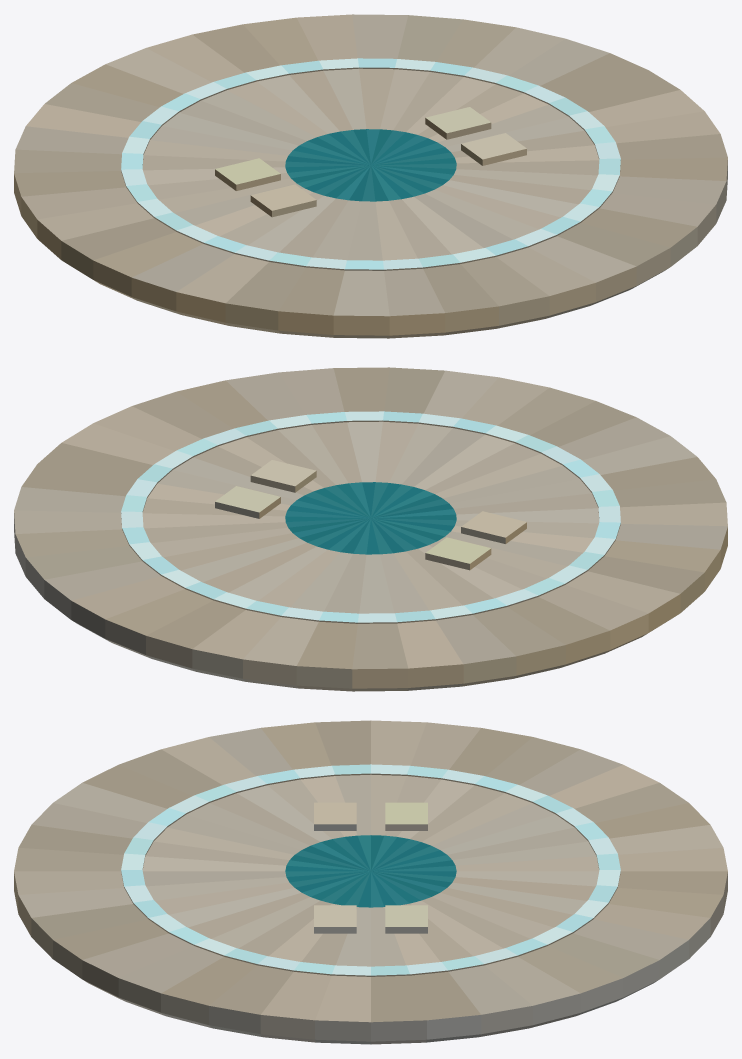
Rendered from bell_platform.glb.
The picture shows the model from 3 angles, top to bottom: view 1: azimuth 30°, elevation 25°; view 2: azimuth 150°, elevation 25°; view 3: azimuth 270°, elevation 25°; orthographic projection.
Parts seen in each view (by area): view 1: bell_platform, ring_inlay; view 2: bell_platform, ring_inlay; view 3: bell_platform, ring_inlay.
Boxes of the visible parts, box(x1,y1,x2,y2) form: bell_platform: box(14, 14, 727, 338); ring_inlay: box(121, 58, 620, 269); bell_platform: box(14, 367, 727, 691); ring_inlay: box(121, 411, 620, 622); bell_platform: box(14, 720, 727, 1044); ring_inlay: box(121, 764, 620, 975).
Size of the model in its own units: 10 by 0.5 by 10.
